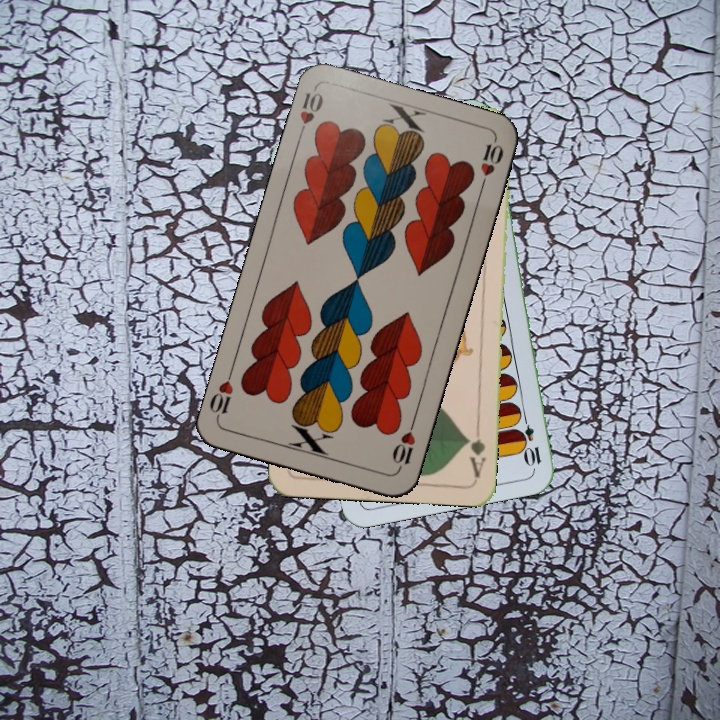E10: (517, 409, 544, 469)
GA: (463, 421, 489, 480)
H10: (294, 85, 326, 142), (388, 416, 418, 474)
